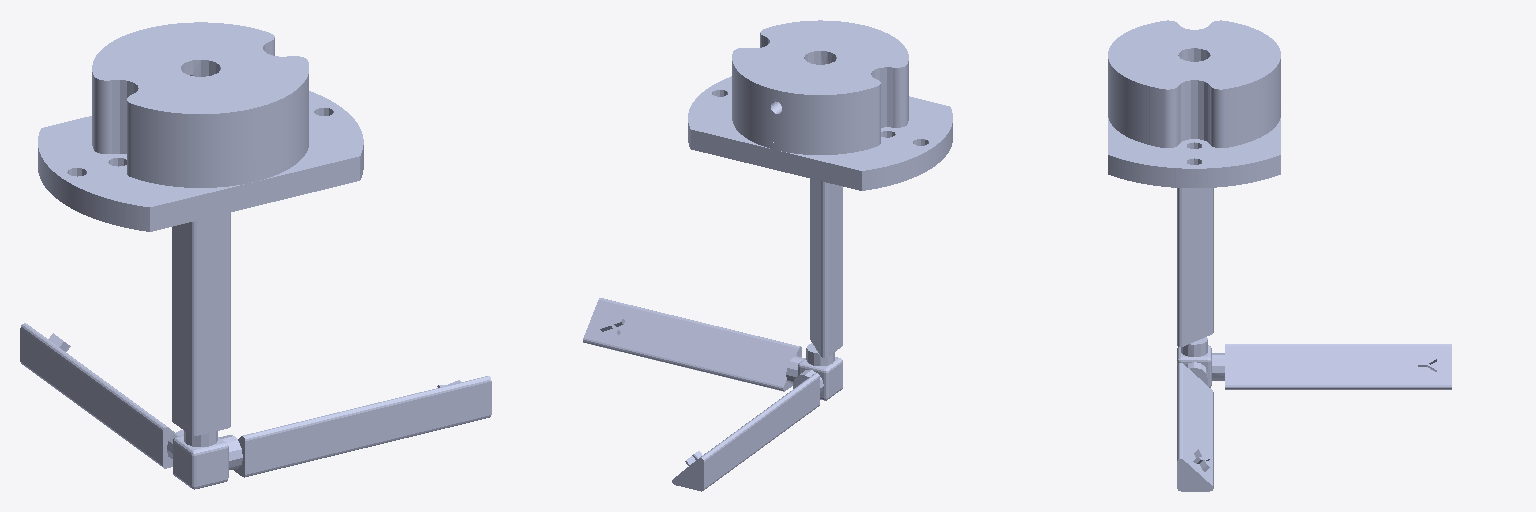
The robot description file, URDF, robot "arm_lcr_description":
<?xml version="1.0" encoding="utf-8"?>
<!-- This URDF was automatically created by SolidWorks to URDF Exporter! Originally created by [author] ([email redacted]) 
     Commit Version: 1.6.0-4-g7f85cfe  Build Version: 1.6.7995.38578
     For more information, please see http://wiki.ros.org/sw_urdf_exporter -->
<robot name="arm_lcr_description">
  <link
    name="base_link">
    <inertial>
      <origin
        xyz="-0.0539149578548648 1.57261934077835E-06 0.0332773857416667"
        rpy="0 0 0" />
      <mass
        value="1.08324725457804" />
      <inertia
        ixx="0.00157344948847675"
        ixy="-1.12829086180671E-09"
        ixz="5.33124037789552E-06"
        iyy="0.0040231125989147"
        iyz="-2.98868560775735E-08"
        izz="0.00536317412804565" />
    </inertial>
    <visual>
      <origin
        xyz="0 0 0"
        rpy="0 0 0" />
      <geometry>
        <mesh
          filename="package://arm_lcr_description/meshes/base_link.STL" />
      </geometry>
      <material
        name="">
        <color
          rgba="0.796078431372549 0.823529411764706 0.937254901960784 1" />
      </material>
    </visual>
    <collision>
      <origin
        xyz="0 0 0"
        rpy="0 0 0" />
      <geometry>
        <mesh
          filename="package://arm_lcr_description/meshes/base_link.STL" />
      </geometry>
    </collision>
  </link>
  <link
    name="link1">
    <inertial>
      <origin
        xyz="0.0290369959505637 0.00392673836922251 -0.0691391188190973"
        rpy="0 0 0" />
      <mass
        value="4.11475891139606" />
      <inertia
        ixx="0.00301779800607539"
        ixy="4.34907717188804E-05"
        ixz="-0.000208069701480735"
        iyy="0.00389032149455748"
        iyz="1.59347759647464E-05"
        izz="0.00268946406649663" />
    </inertial>
    <visual>
      <origin
        xyz="0 0 0"
        rpy="0 0 0" />
      <geometry>
        <mesh
          filename="package://arm_lcr_description/meshes/link1.STL" />
      </geometry>
      <material
        name="">
        <color
          rgba="0.866666666666667 0.866666666666667 0.890196078431372 1" />
      </material>
    </visual>
    <collision>
      <origin
        xyz="0 0 0"
        rpy="0 0 0" />
      <geometry>
        <mesh
          filename="package://arm_lcr_description/meshes/link1.STL" />
      </geometry>
    </collision>
  </link>
  <joint
    name="joint1"
    type="revolute">
    <origin
      xyz="0 0 0.169"
      rpy="0 0 0" />
    <parent
      link="base_link" />
    <child
      link="link1" />
    <axis
      xyz="0 0 1" />
    <limit
      lower="-3.14"
      upper="3.14"
      effort="100"
      velocity="3.000000001" />
  </joint>
  <link
    name="link2">
    <inertial>
      <origin
        xyz="0.0903884076777632 -0.000120715476666713 0.0448943512220614"
        rpy="0 0 0" />
      <mass
        value="2.38987246296436" />
      <inertia
        ixx="0.000939880922658595"
        ixy="1.28611883592931E-06"
        ixz="-1.93876099056265E-07"
        iyy="0.0143982647000054"
        iyz="3.25586872098753E-07"
        izz="0.0148822149795595" />
    </inertial>
    <visual>
      <origin
        xyz="0 0 0"
        rpy="0 0 0" />
      <geometry>
        <mesh
          filename="package://arm_lcr_description/meshes/link2.STL" />
      </geometry>
      <material
        name="">
        <color
          rgba="0.647058823529412 0.619607843137255 0.588235294117647 1" />
      </material>
    </visual>
    <collision>
      <origin
        xyz="0 0 0"
        rpy="0 0 0" />
      <geometry>
        <mesh
          filename="package://arm_lcr_description/meshes/link2.STL" />
      </geometry>
    </collision>
  </link>
  <joint
    name="joint2"
    type="revolute">
    <origin
      xyz="0.064418 0 0"
      rpy="1.5708 -1.5708 -3.1416" />
    <parent
      link="link1" />
    <child
      link="link2" />
    <axis
      xyz="0 0 1" />
    <limit
      lower="-3.14"
      upper="3.14"
      effort="100"
      velocity="3.00000001" />
  </joint>
  <link
    name="link3">
    <inertial>
      <origin
        xyz="-0.00480501626264607 0.0021139941286724 0.0211236757719251"
        rpy="0 0 0" />
      <mass
        value="1.08870632017772" />
      <inertia
        ixx="0.000430792050794806"
        ixy="6.25652387631402E-09"
        ixz="2.89417241374556E-07"
        iyy="0.000347781961784541"
        iyz="-4.52784032099191E-06"
        izz="0.000487143846518166" />
    </inertial>
    <visual>
      <origin
        xyz="0 0 0"
        rpy="0 0 0" />
      <geometry>
        <mesh
          filename="package://arm_lcr_description/meshes/link3.STL" />
      </geometry>
      <material
        name="">
        <color
          rgba="0.615686274509804 0.643137254901961 0.674509803921569 1" />
      </material>
    </visual>
    <collision>
      <origin
        xyz="0 0 0"
        rpy="0 0 0" />
      <geometry>
        <mesh
          filename="package://arm_lcr_description/meshes/link3.STL" />
      </geometry>
    </collision>
  </link>
  <joint
    name="joint3"
    type="revolute">
    <origin
      xyz="0.305 0 0"
      rpy="0 0 0" />
    <parent
      link="link2" />
    <child
      link="link3" />
    <axis
      xyz="0 0 1" />
    <limit
      lower="-3.14"
      upper="3.14"
      effort="100"
      velocity="3.00000001" />
  </joint>
  <link
    name="link4">
    <inertial>
      <origin
        xyz="-2.5424E-05 0.010879 -0.14272"
        rpy="0 0 0" />
      <mass
        value="1.4353" />
      <inertia
        ixx="0.0017023"
        ixy="2.9482E-07"
        ixz="1.5814E-06"
        iyy="0.0018769"
        iyz="-3.5822E-06"
        izz="0.00042454" />
    </inertial>
    <visual>
      <origin
        xyz="0 0 0"
        rpy="0 0 0" />
      <geometry>
        <mesh
          filename="package://arm_lcr_description/meshes/link4.STL" />
      </geometry>
      <material
        name="">
        <color
          rgba="0.75294 0.75294 0.75294 1" />
      </material>
    </visual>
    <collision>
      <origin
        xyz="0 0 0"
        rpy="0 0 0" />
      <geometry>
        <mesh
          filename="package://arm_lcr_description/meshes/link4.STL" />
      </geometry>
    </collision>
  </link>
  <joint
    name="joint4"
    type="revolute">
    <origin
      xyz="0 0.22563 0"
      rpy="-1.5708 0 0" />
    <parent
      link="link3" />
    <child
      link="link4" />
    <axis
      xyz="0 0 1" />
    <limit
      lower="-3.14"
      upper="3.14"
      effort="100"
      velocity="3.000000001" />
  </joint>
  <link
    name="link5">
    <inertial>
      <origin
        xyz="0.0028991 2.7671E-05 -0.012589"
        rpy="0 0 0" />
      <mass
        value="0.40389" />
      <inertia
        ixx="8.4177E-05"
        ixy="-7.2261E-09"
        ixz="2.1205E-08"
        iyy="7.7816E-05"
        iyz="-3.4205E-08"
        izz="0.00010983" />
    </inertial>
    <visual>
      <origin
        xyz="0 0 0"
        rpy="0 0 0" />
      <geometry>
        <mesh
          filename="package://arm_lcr_description/meshes/link5.STL" />
      </geometry>
      <material
        name="">
        <color
          rgba="0.64706 0.61961 0.58824 1" />
      </material>
    </visual>
    <collision>
      <origin
        xyz="0 0 0"
        rpy="0 0 0" />
      <geometry>
        <mesh
          filename="package://arm_lcr_description/meshes/link5.STL" />
      </geometry>
    </collision>
  </link>
  <joint
    name="joint5"
    type="revolute">
    <origin
      xyz="0 0 0"
      rpy="1.5708 0 0" />
    <parent
      link="link4" />
    <child
      link="link5" />
    <axis
      xyz="0 0 1" />
    <limit
      lower="-3.14"
      upper="3.14"
      effort="100"
      velocity="3.00000001" />
  </joint>
  <link
    name="link6">
    <inertial>
      <origin
        xyz="0.0016961 0.0016533 0.047315"
        rpy="0 0 0" />
      <mass
        value="0.017789" />
      <inertia
        ixx="2.941E-06"
        ixy="2.7268E-07"
        ixz="2.7295E-07"
        iyy="3.2874E-06"
        iyz="2.7166E-07"
        izz="4.0086E-06" />
    </inertial>
    <visual>
      <origin
        xyz="0 0 0"
        rpy="0 0 0" />
      <geometry>
        <mesh
          filename="package://arm_lcr_description/meshes/link6.STL" />
      </geometry>
      <material
        name="">
        <color
          rgba="0.79608 0.82353 0.93725 1" />
      </material>
    </visual>
    <collision>
      <origin
        xyz="0 0 0"
        rpy="0 0 0" />
      <geometry>
        <mesh
          filename="package://arm_lcr_description/meshes/link6.STL" />
      </geometry>
    </collision>
  </link>
  <joint
    name="joint6"
    type="revolute">
    <origin
      xyz="-0.09385 0 0"
      rpy="1.5708 0 1.5708" />
    <parent
      link="link5" />
    <child
      link="link6" />
    <axis
      xyz="0 0 1" />
    <limit
      lower="-3.14"
      upper="3.14"
      effort="100"
      velocity="3.000000001" />
  </joint>

  <link name="world"/>

  <joint name="fixed" type="fixed">
      <parent link="world"/>
      <child link="base_link"/>
  </joint>

</robot>

--- What the picture shows (computed from the rendered views, not written in the file) ---
Views: 3 orthographic renders of the robot side by side, from view 1: azimuth 30°, elevation 25°; view 2: azimuth 150°, elevation 25°; view 3: azimuth 270°, elevation 25°.
Model arm_lcr_description with 8 links and 7 joints (6 revolute, 1 fixed), rooted at world, posed every joint at zero.
Visible links, largest first — view 1: link6; view 2: link6; view 3: link6.
Boxes of the visible links, <box> form: link6: <box>20,22,491,489</box>; link6: <box>583,20,952,491</box>; link6: <box>1108,20,1451,491</box>.
Size in the robot's own frame: 0.0716 by 0.0636 by 0.0668 metres.
1 mesh visuals loaded from 7 distinct referenced files (1 binary STL); not drawn: 6 (reference not matched to a file when rendering).